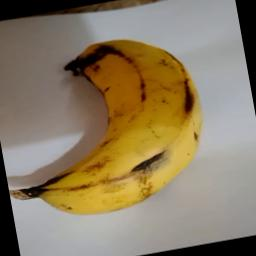Banana Unripe: (0, 26, 218, 225)
